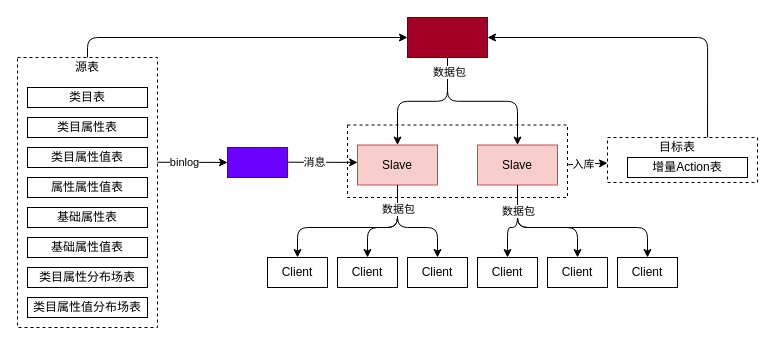
This 775x345 diagram has some shape labels left out. Each missing label, with the centre of its shape:
Master: (447,37)
精卫: (257,162)
